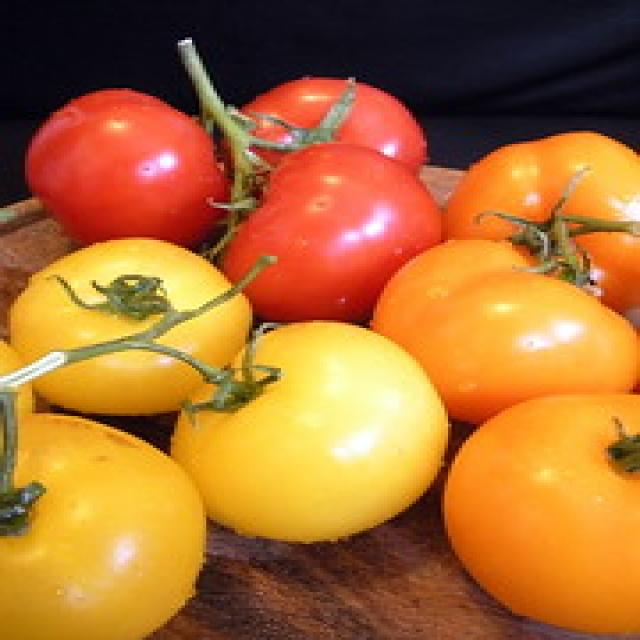Tomato: (212, 142, 452, 330), (29, 79, 227, 251), (221, 73, 429, 190)
